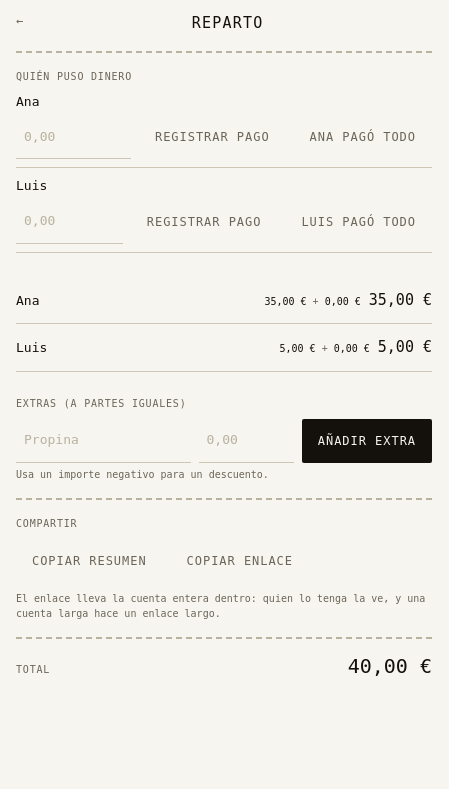
Test: ResultScreen › avisa cuando lo pagado no cuadra con el total
In the field named "puso ana": (74, 137) [16,115,131,159], type "30"
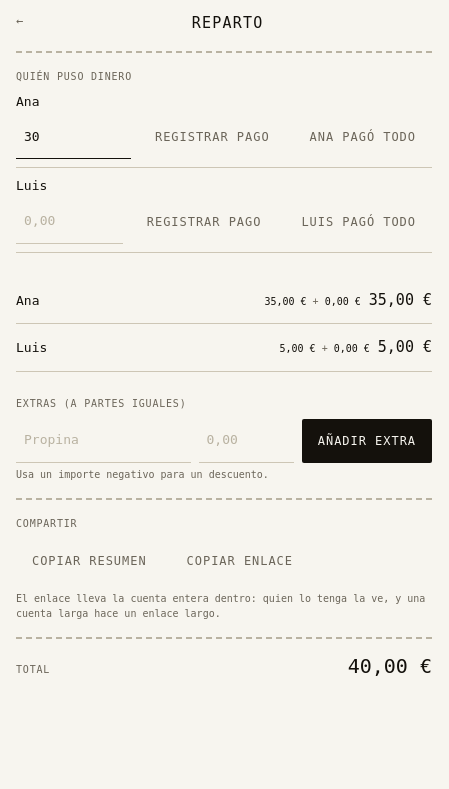
Click the 1st button "Registrar pago": click(212, 137) [139,115,286,159]
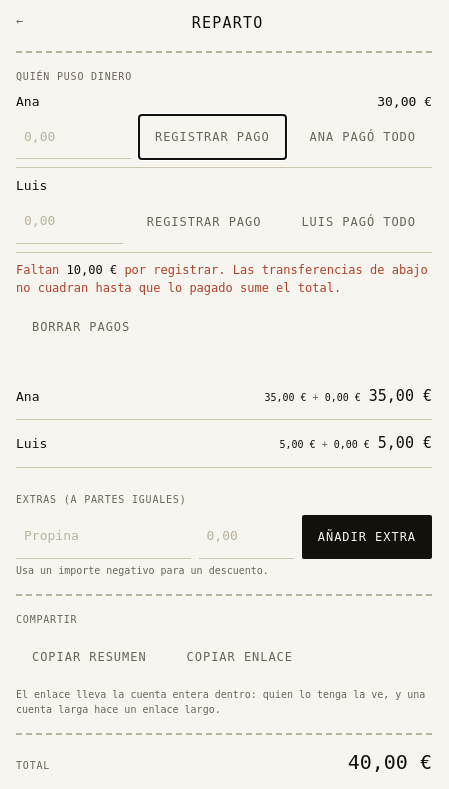
Expected: the message with test id "payments-mismatch" shows "Faltan", [16,262,67,276]
Expected: the message with test id "payments-mismatch" shows "10,00 €", [67,262,117,276]
